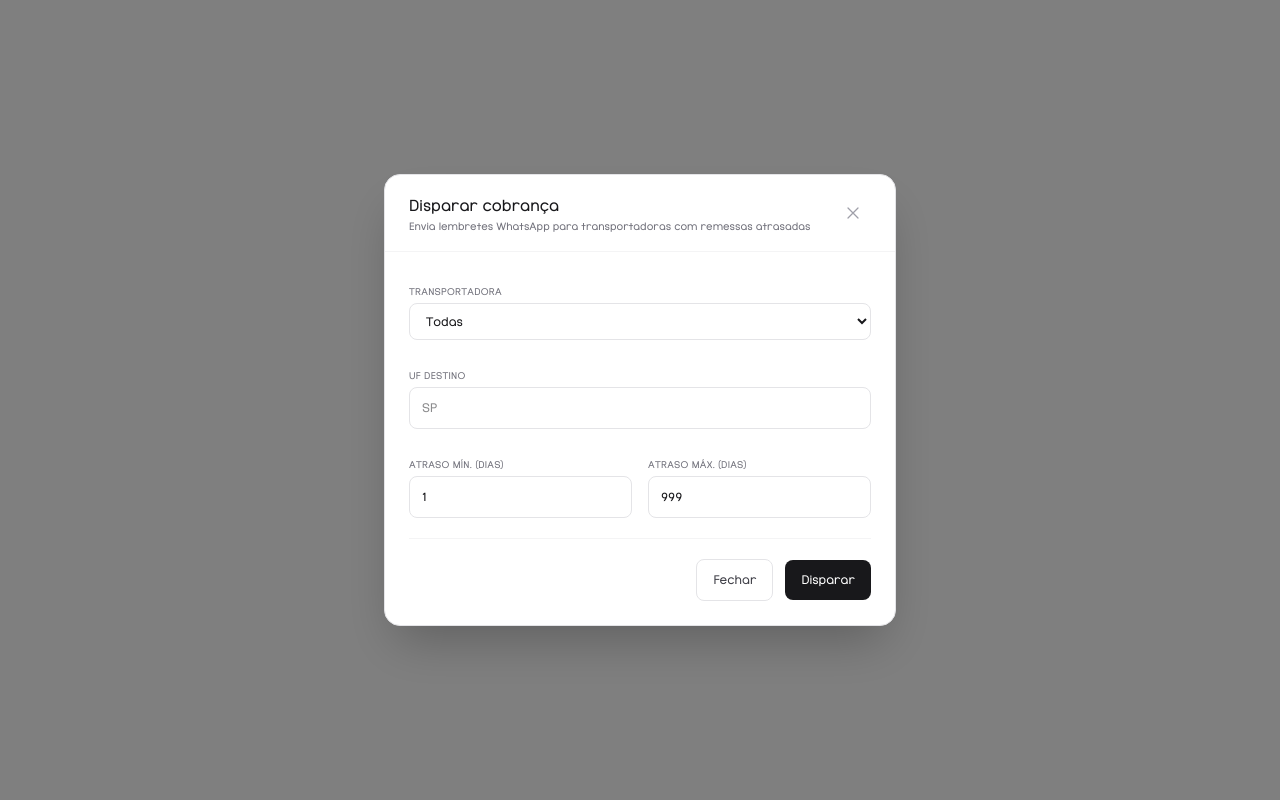
ChargeDispatchModal › dispara cobrança e mostra resumo
Click the button "Disparar" at (828, 580), box [785,560,871,600]
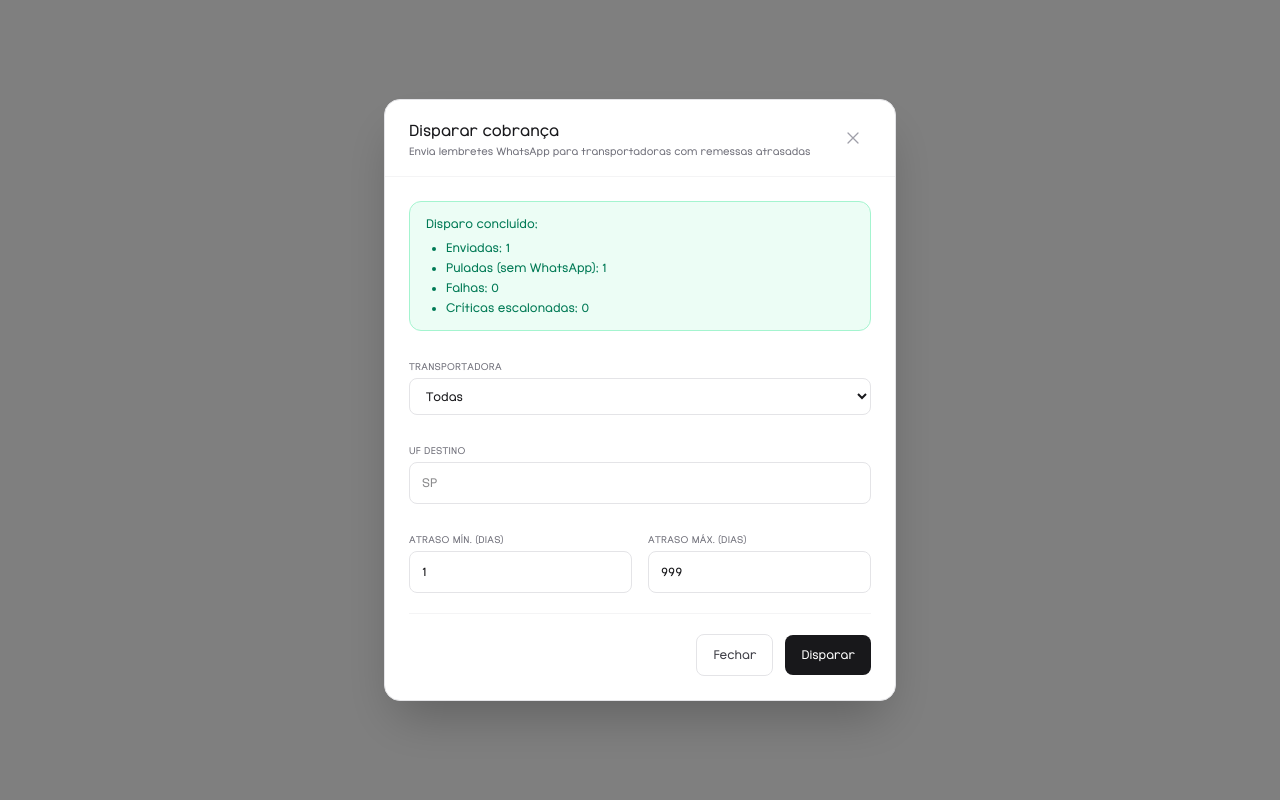
Result: the list item "Enviadas: 1" is shown at [446,241,510,254]
